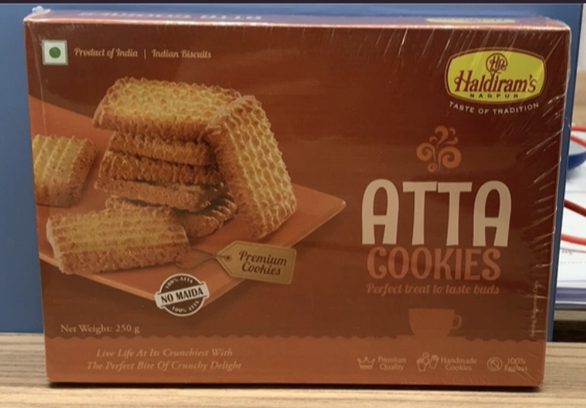cookies_200g-299g: (41, 42, 540, 374)
